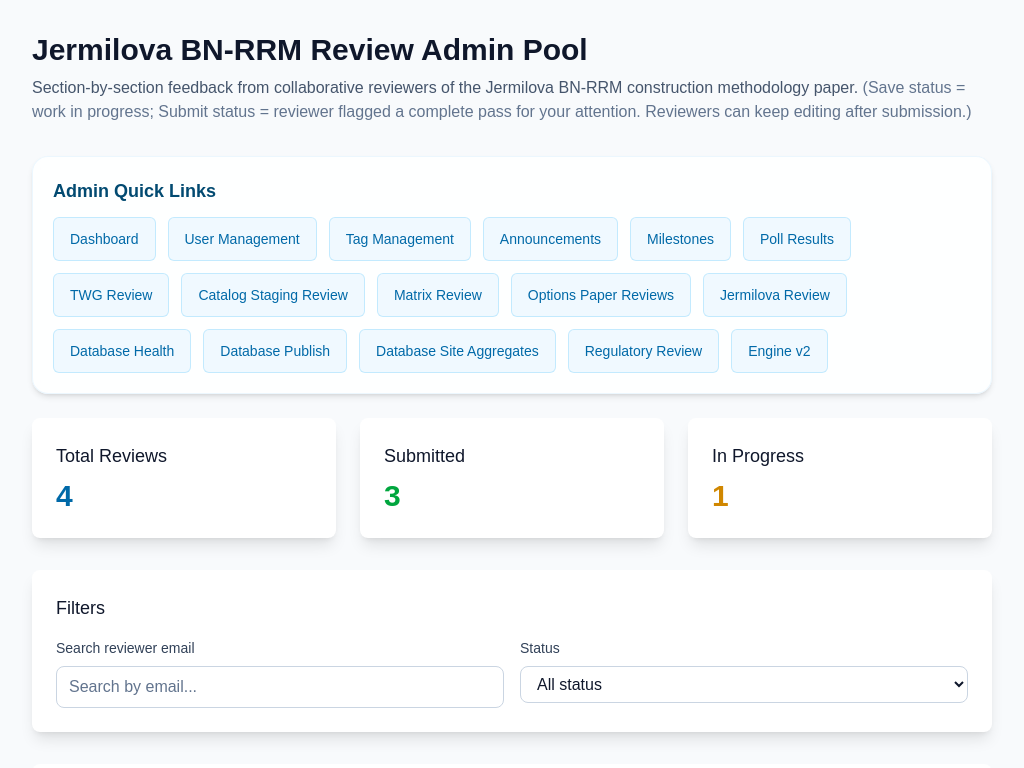
Test: JermilovaReviewClient › filters by email search (case-insensitive substring)
In the field with test id "jermilova-admin-search": (280, 687) [56,666,504,708], type "ALICE"
(page scrolled)
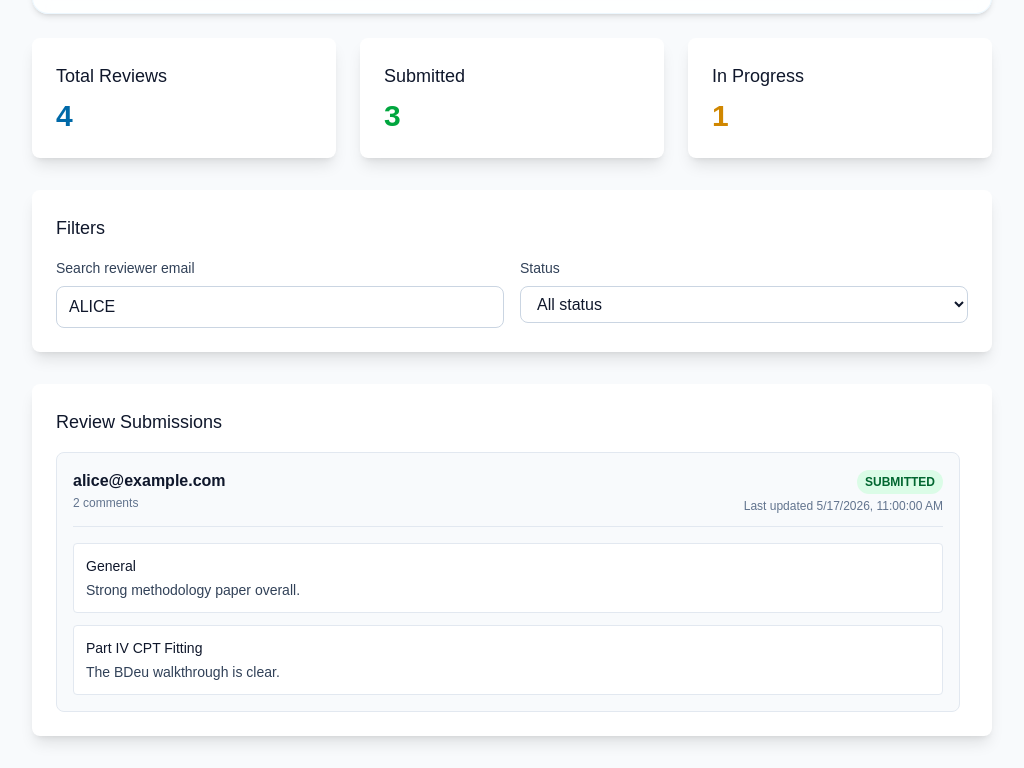
Expected: the heading "alice@example.com" is shown, [73,469,226,493]
Now the number of elements with test id "jermilova-admin-review-row" is 1, box [56,452,960,712]
